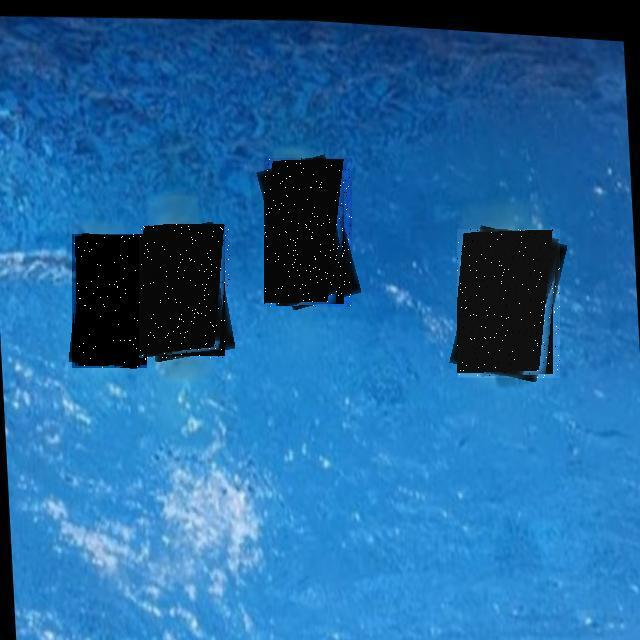swimming: (457, 229, 560, 378), (264, 158, 352, 307), (139, 224, 230, 359), (72, 234, 147, 368)
